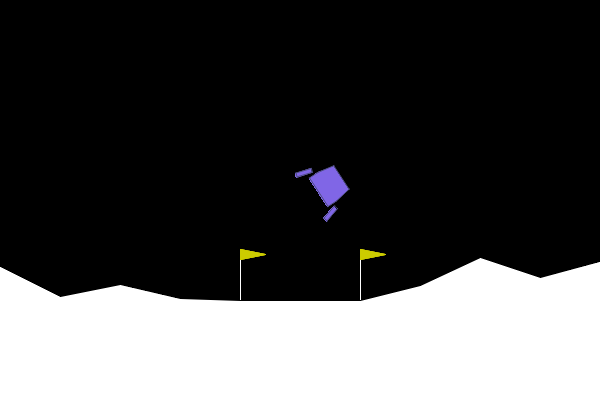lander: (293, 152, 359, 224)
